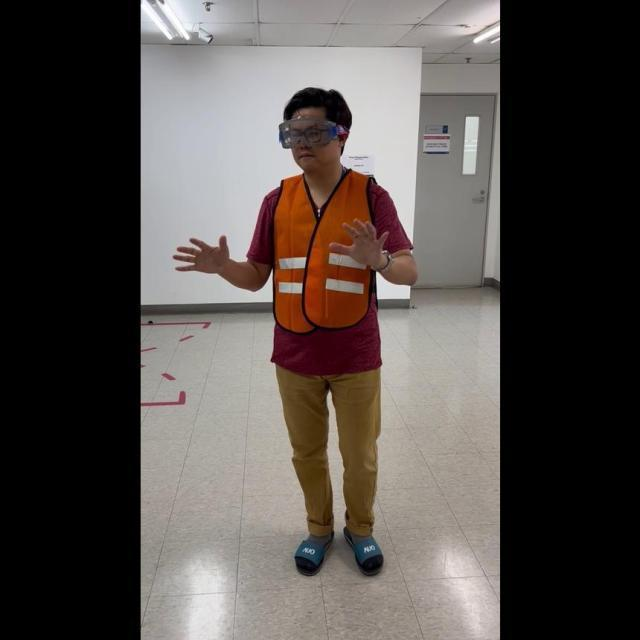bare_hand: (327, 215, 397, 272), (171, 231, 228, 275)
